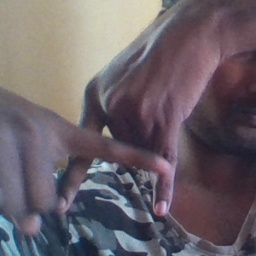H: (45, 87, 181, 224)
